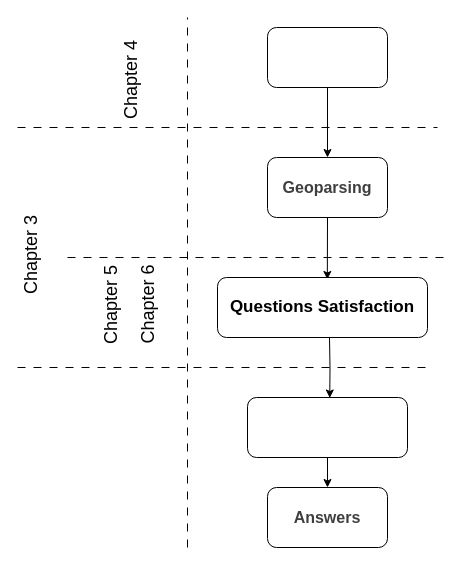
The diagram is 466 pixels wide and 566 high, and some of its shapes have lost their labels. Here are the shapes that lost their labels. From the top down, the box of each, then its label:
(266, 26, 388, 88): Question Corpus
(246, 396, 408, 458): Answer Extraction
